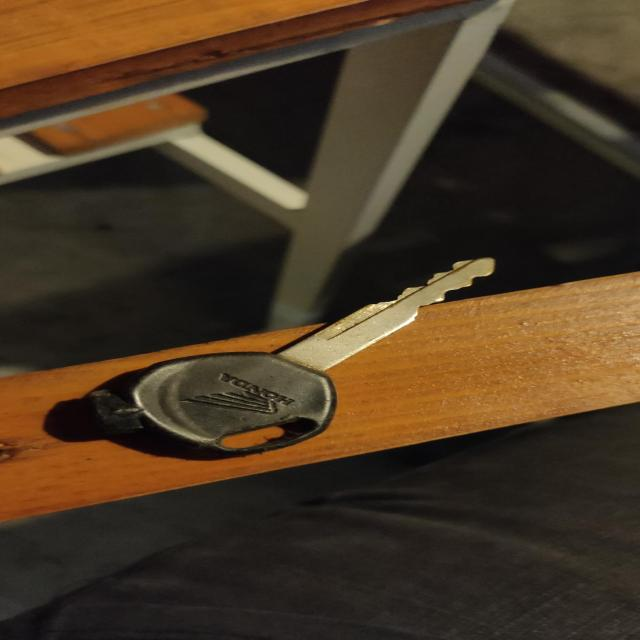kunci_motor: (43, 248, 509, 466)
